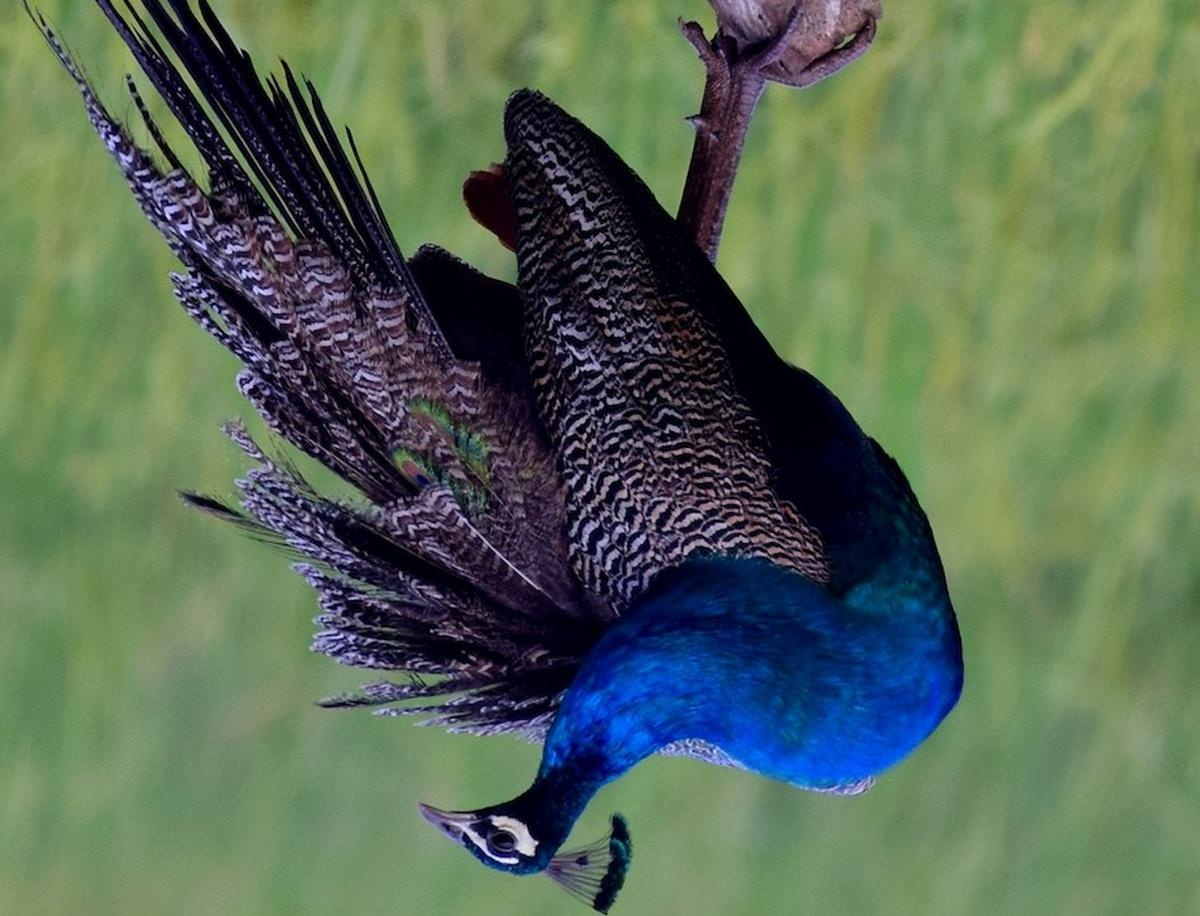peacock: (138, 58, 981, 916)
